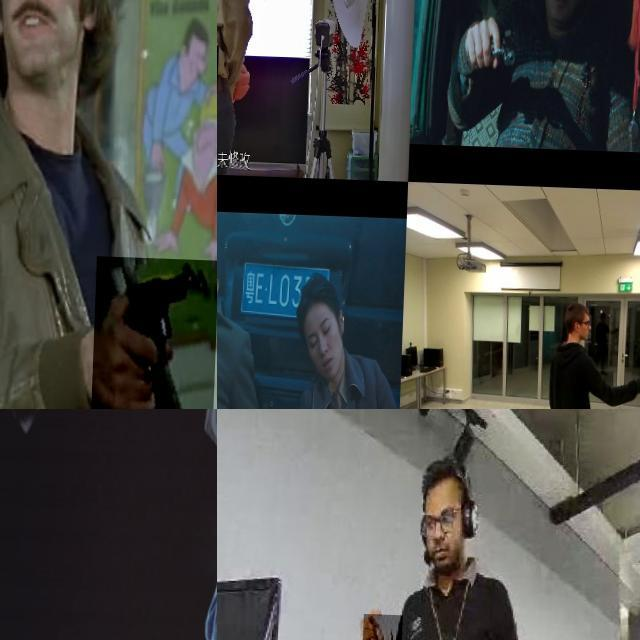-: (363, 611, 406, 640)
gun-knife-thesis - v11 Yolov5 augmented: (94, 252, 217, 409), (466, 18, 519, 68), (217, 43, 236, 91), (217, 347, 225, 403)
